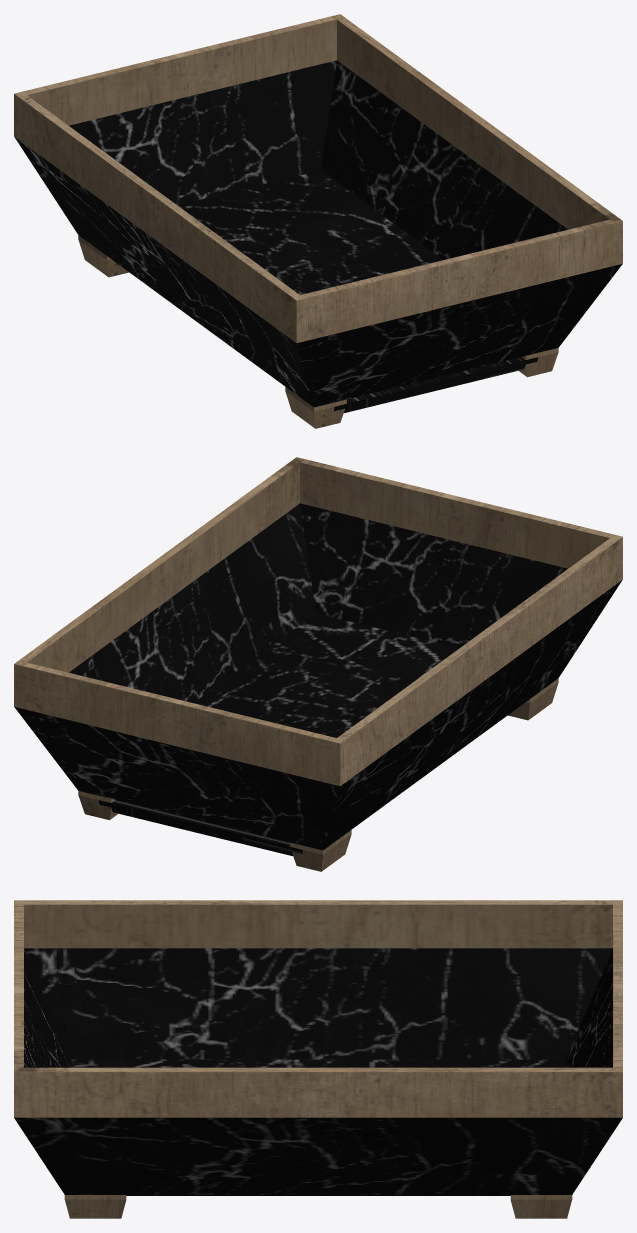
The picture shows the model from 3 angles, top to bottom: view 1: azimuth 30°, elevation 25°; view 2: azimuth 150°, elevation 25°; view 3: azimuth 270°, elevation 25°; orthographic projection. The views are drawn at different scales.
Parts seen in each view (by area): view 1: Pot_Bt, Pot_Tp, Pot_Bottom_Tray, Pot_Leg_Bk_Lt, Pot_Leg_Ft_Lt, Pot_Leg_Ft_Rt; view 2: Pot_Bt, Pot_Tp, Pot_Bottom_Tray, Pot_Leg_Ft_Lt, Pot_Leg_Bk_Lt, Pot_Leg_Bk_Rt; view 3: Pot_Bt, Pot_Tp, Pot_Leg_Ft_Rt, Pot_Leg_Bk_Rt.
Boxes of the visible parts, left/top/right/bottom form: Pot_Bt: left=14, top=60, right=622, bottom=407; Pot_Tp: left=14, top=14, right=622, bottom=343; Pot_Bottom_Tray: left=334, top=357, right=537, bottom=412; Pot_Leg_Bk_Lt: left=285, top=387, right=346, bottom=428; Pot_Leg_Ft_Lt: left=78, top=235, right=128, bottom=277; Pot_Leg_Ft_Rt: left=519, top=348, right=558, bottom=377; Pot_Bt: left=14, top=503, right=622, bottom=850; Pot_Tp: left=14, top=457, right=622, bottom=786; Pot_Bottom_Tray: left=99, top=800, right=302, bottom=855; Pot_Leg_Ft_Lt: left=290, top=830, right=351, bottom=871; Pot_Leg_Bk_Lt: left=508, top=678, right=558, bottom=720; Pot_Leg_Bk_Rt: left=78, top=791, right=117, bottom=820; Pot_Bt: left=14, top=948, right=622, bottom=1194; Pot_Tp: left=14, top=900, right=622, bottom=1117; Pot_Leg_Ft_Rt: left=64, top=1195, right=126, bottom=1218; Pot_Leg_Bk_Rt: left=510, top=1195, right=572, bottom=1218.
Size of the model in its own units: 0.08 by 0.0371 by 0.12.
2 materials, 2 textured.
